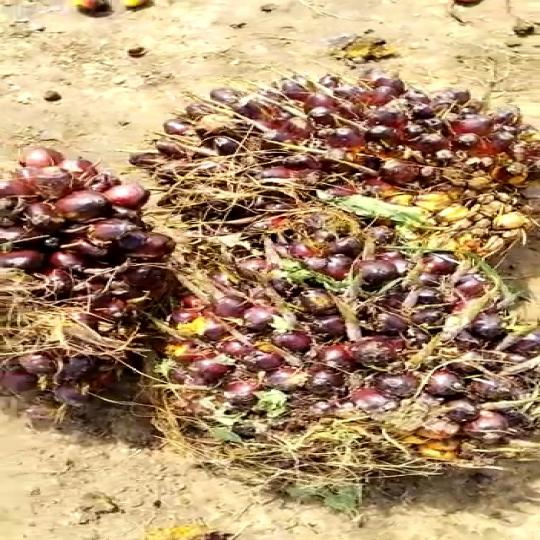kurang masak: (111, 208, 535, 481), (136, 85, 540, 277), (0, 146, 201, 422)
